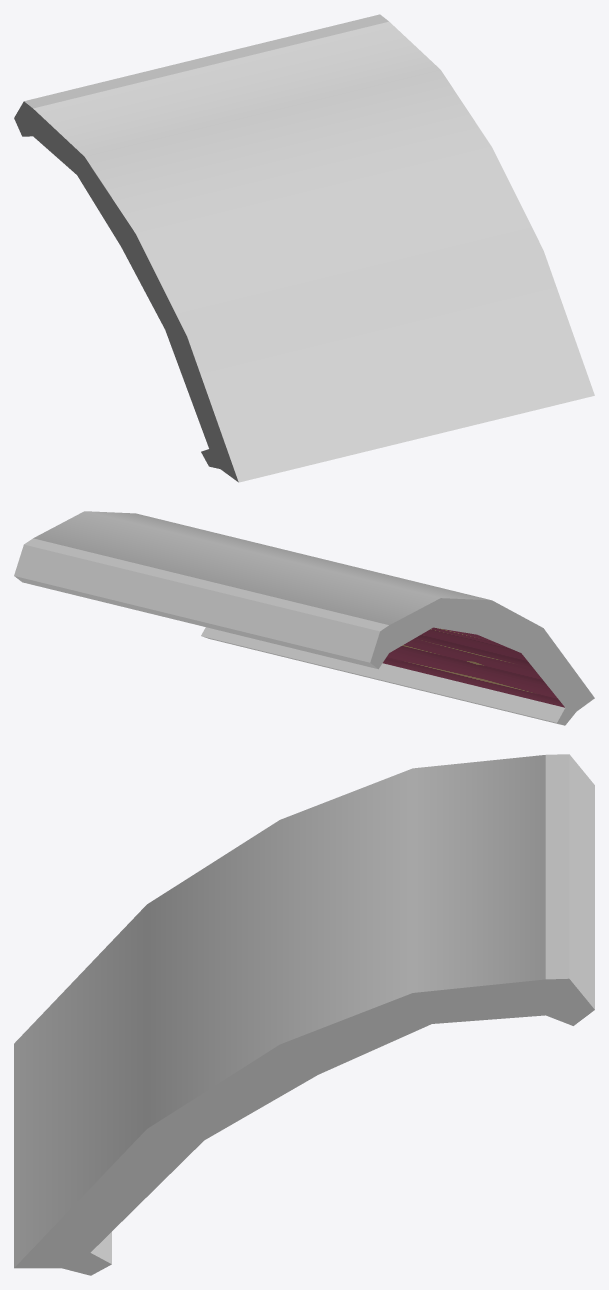
File: SM_Bld_Roof_M_Convex_01.fbx
3 views of the same model, one above another, from view 1: azimuth 30°, elevation 25°; view 2: azimuth 150°, elevation 25°; view 3: azimuth 270°, elevation 25° (orthographic). The views are drawn at different scales.
Parts seen in each view (by area): view 1: SM_Bld_Roof_M_Convex_01; view 2: SM_Bld_Roof_M_Convex_01; view 3: SM_Bld_Roof_M_Convex_01.
Part boxes in pixels (x1=…): SM_Bld_Roof_M_Convex_01: x1=14, y1=14, x2=594, y2=482; SM_Bld_Roof_M_Convex_01: x1=14, y1=511, x2=594, y2=725; SM_Bld_Roof_M_Convex_01: x1=14, y1=754, x2=594, y2=1275.
Bounding box in the file's own units: 250 × 154 × 273.
